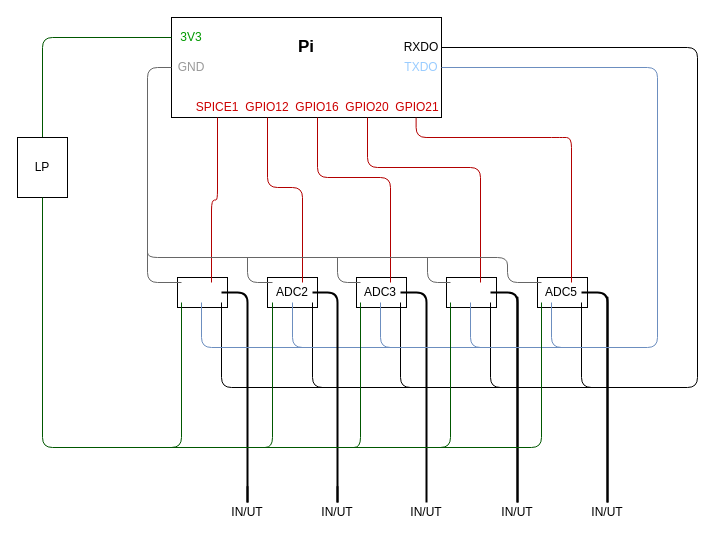
This 716x540 diagram has some shape labels left out. Each missing label, with the centre of its shape:
ADC1: pixel 202 292
ADC4: pixel 471 292
